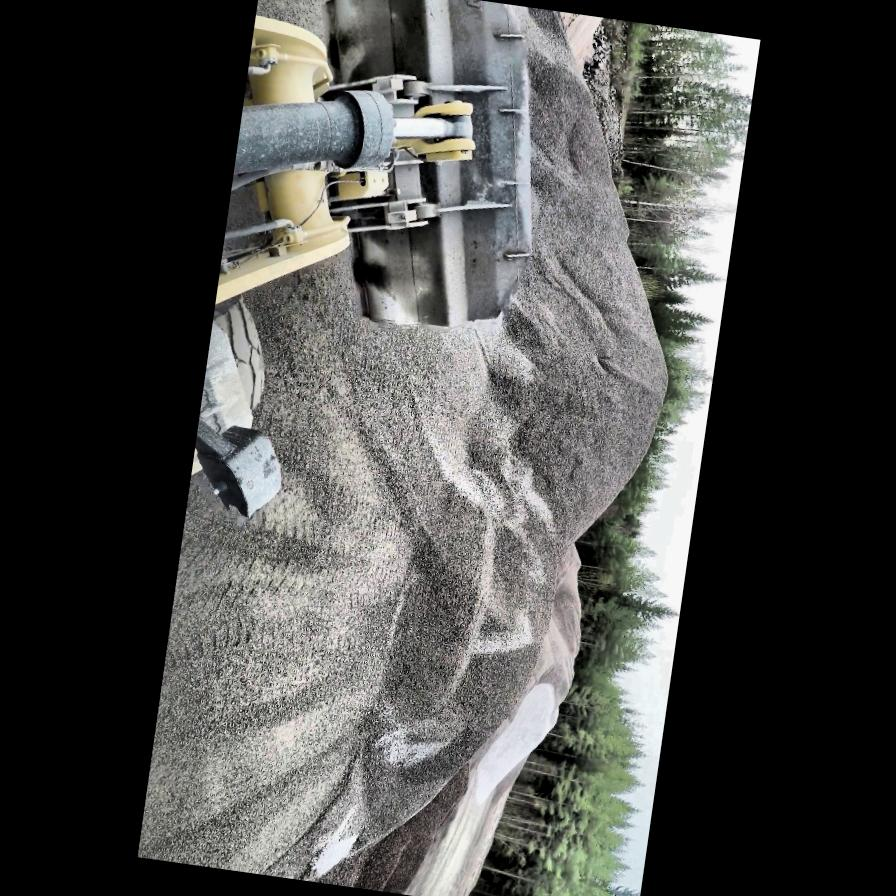anchor: (388, 91, 481, 166)
pile of gravel: (432, 4, 711, 542), (280, 485, 559, 896), (470, 672, 560, 812), (538, 547, 591, 689), (542, 9, 634, 61), (558, 540, 587, 597)
